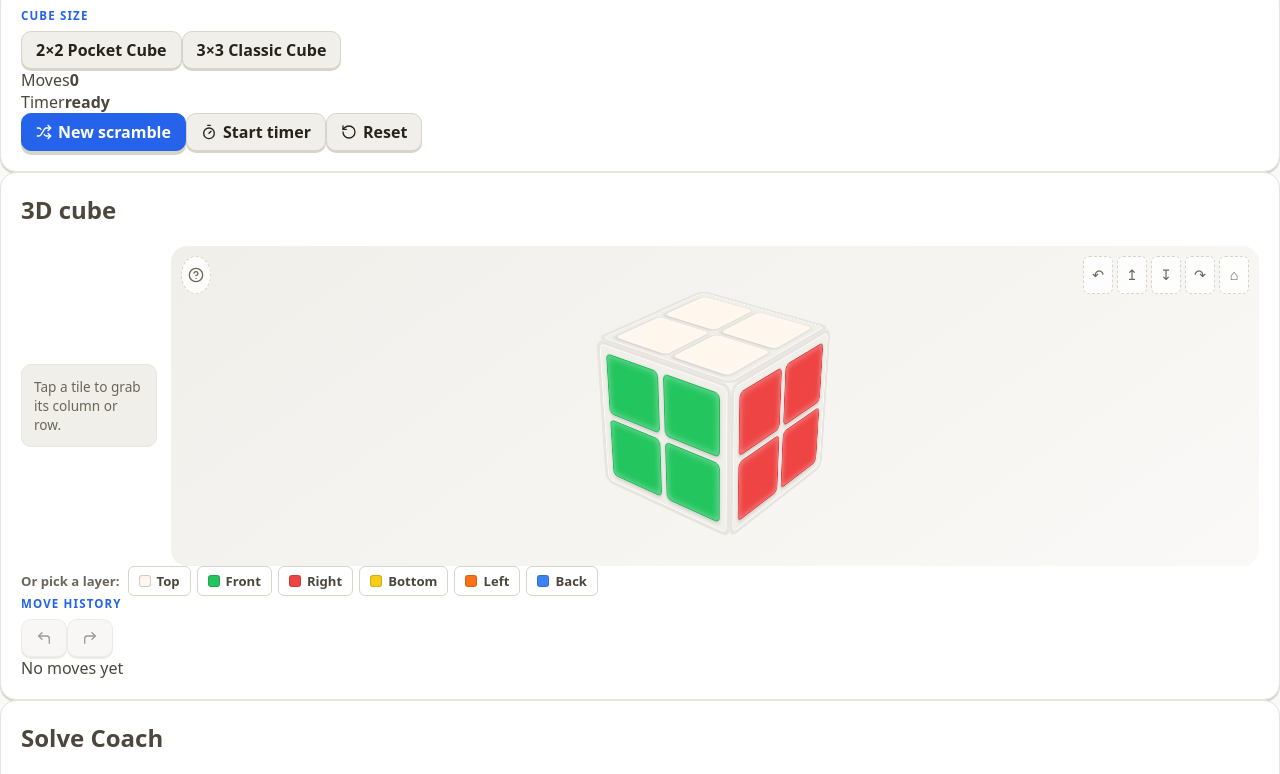
Test: SolveCoachPanel — "Finish known solve" batches the whole solution › records moves === solution length (not 1) and the history shows every move
The image size is (1280, 774).
Click the button "New scramble" at (104, 132), box [21,113,186,151]
(page scrolled)
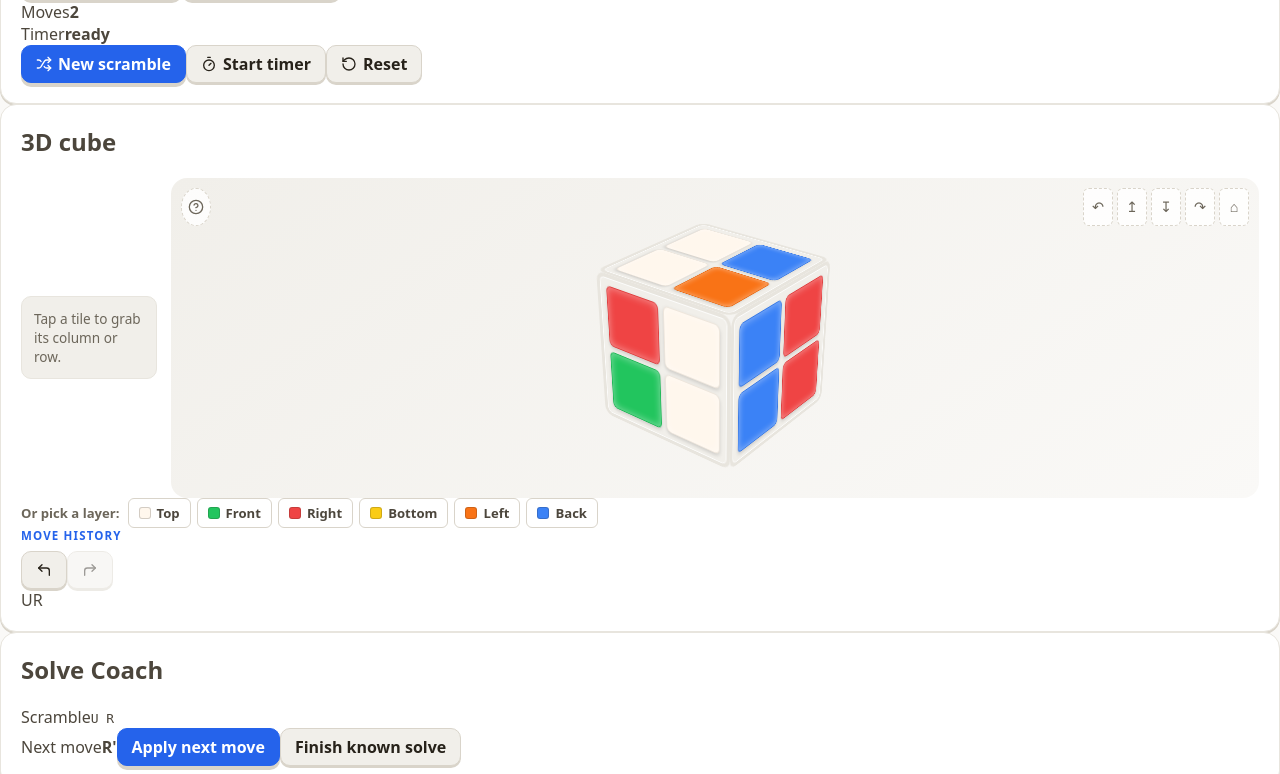
Click the button "Finish known solve" at (371, 747), box [280,728,461,766]
(page scrolled)
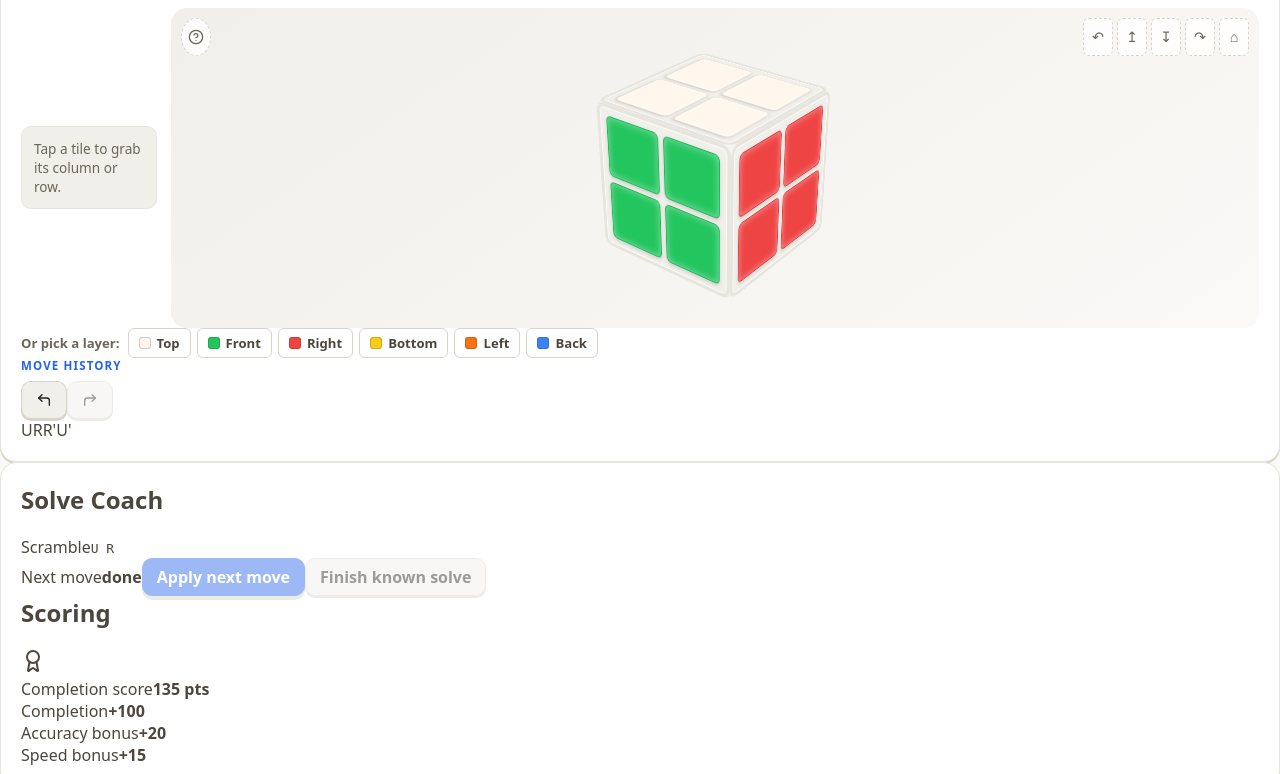
Expected: the text "U" is shown 4 times, [21,419,33,441]; [33,419,43,441]; [43,419,56,441]; [56,419,72,441]
Expected: the text "Completion score" is shown, [21,678,153,700]
